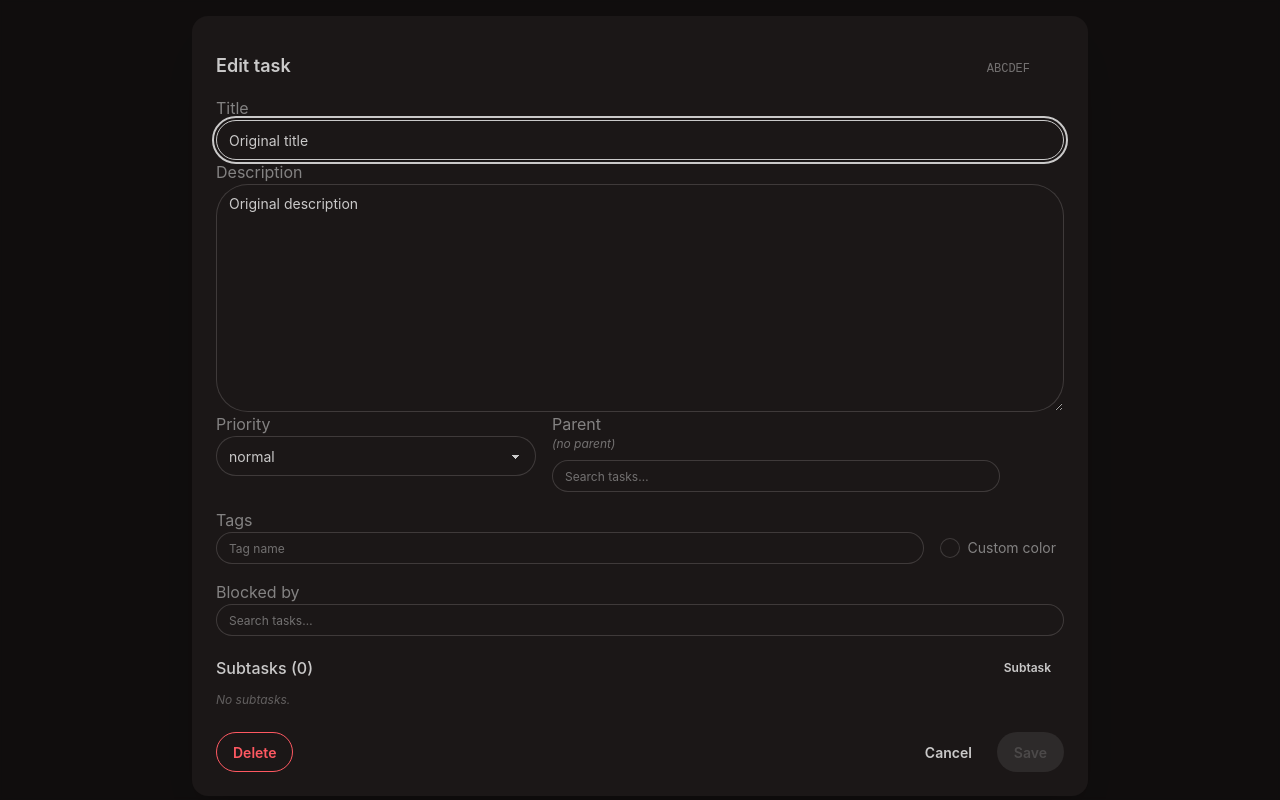
TaskEditModal save flow › opens the conflict dialog when updateTask returns a conflict on an overlapping field
The width and height of the screenshot is (1280, 800).
# Drive a dirty title.
Replace the text in the field labelled "Title" with "Local title": point(640, 140) [216,120,1064,160]
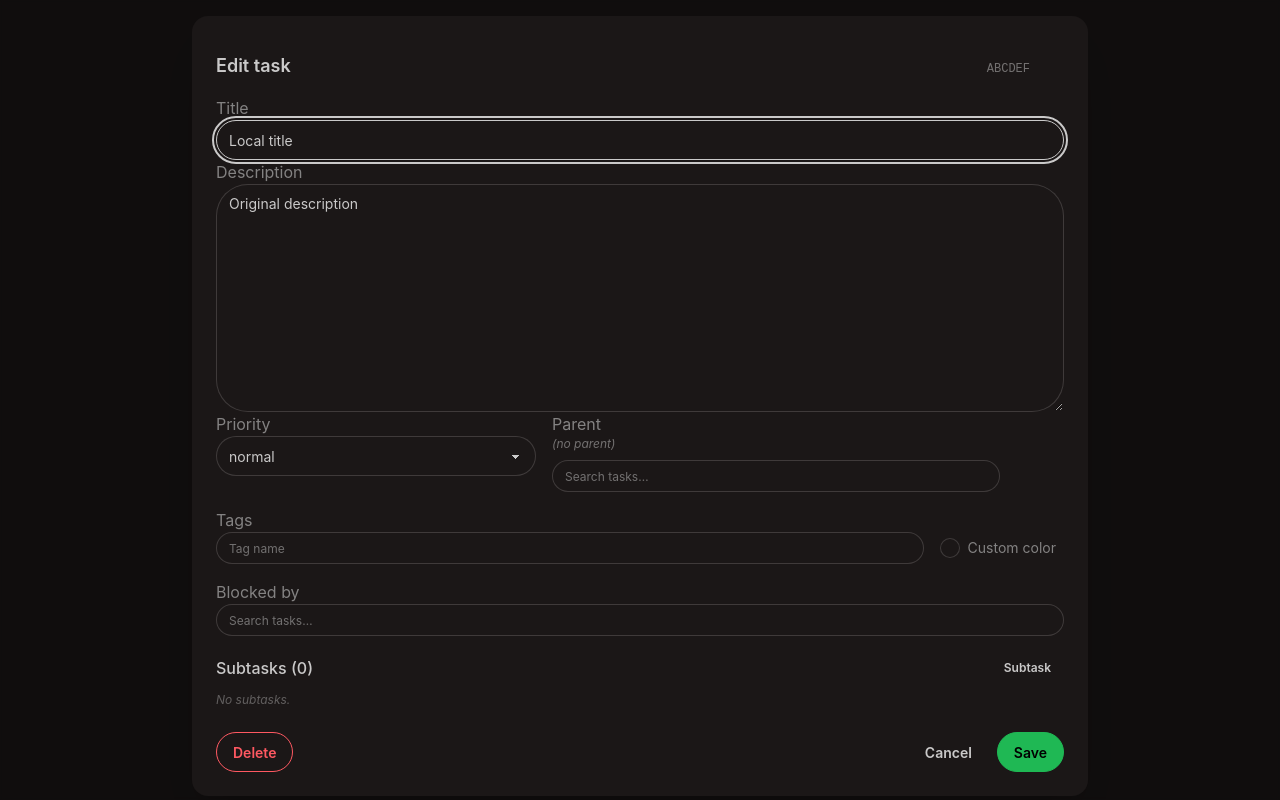
Click the button "Save": point(1030, 752) [997,732,1064,772]
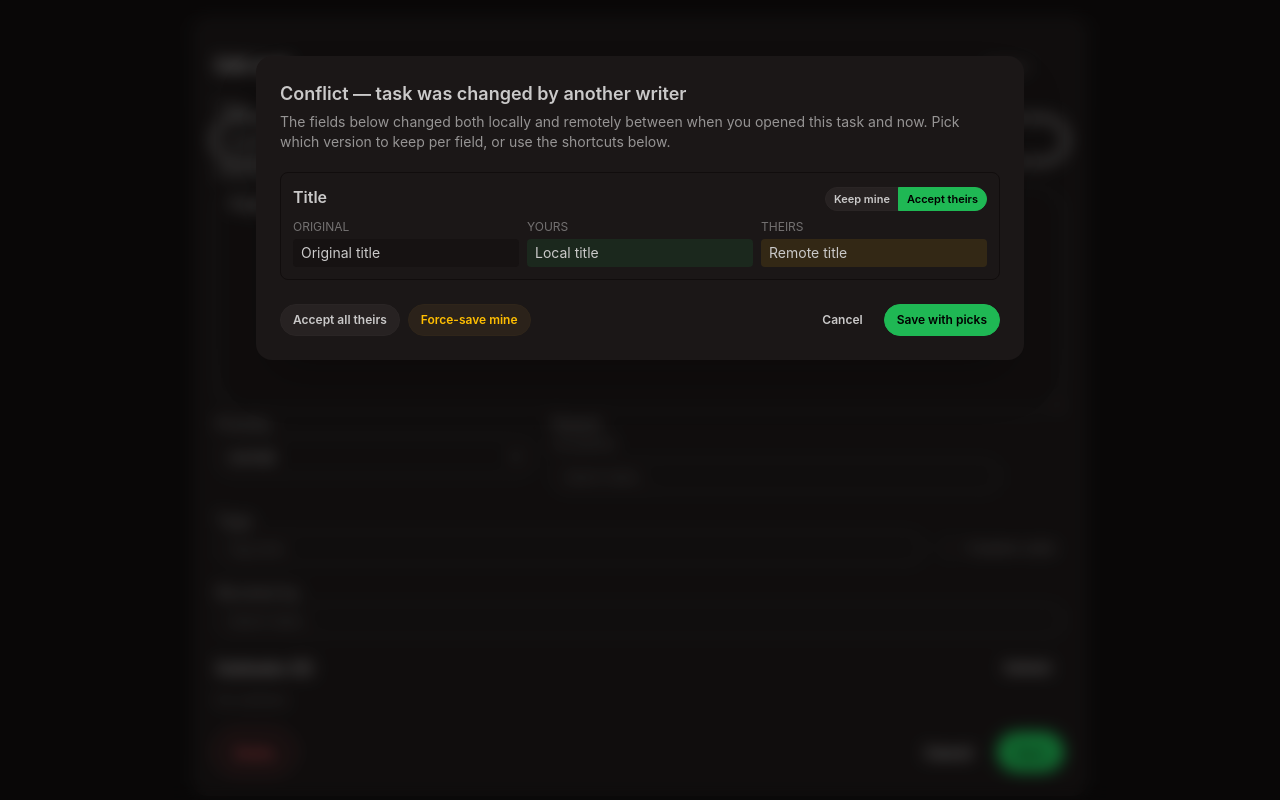
Expected: the heading "Conflict — task was changed by another writer" is shown, [280,83,686,104]
